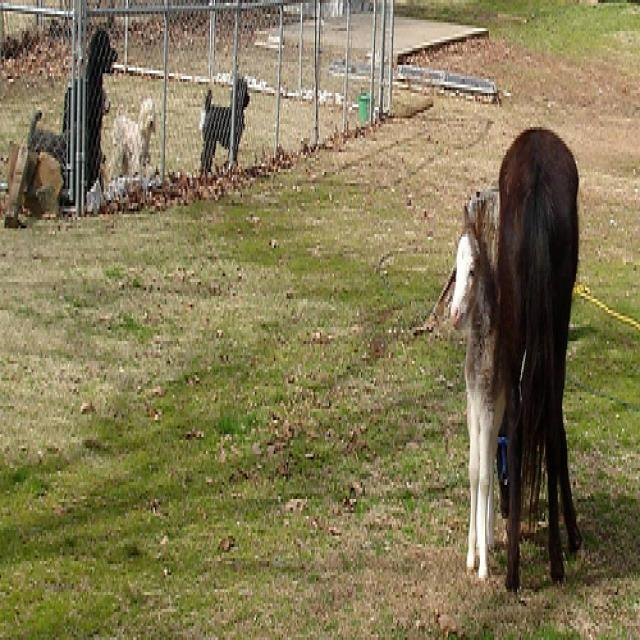dog: (64, 26, 119, 193), (200, 74, 250, 176), (110, 97, 157, 181), (28, 108, 76, 190)
horse: (499, 125, 583, 590), (449, 196, 507, 579)
